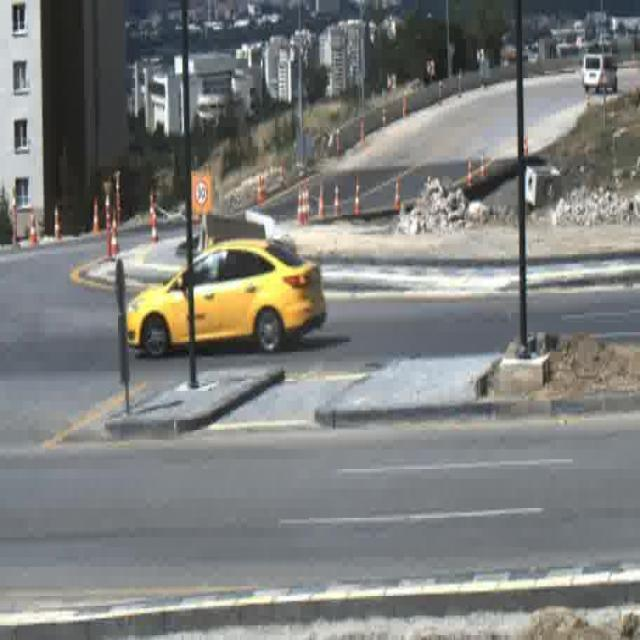Car: (128, 236, 326, 358), (582, 53, 618, 94)
